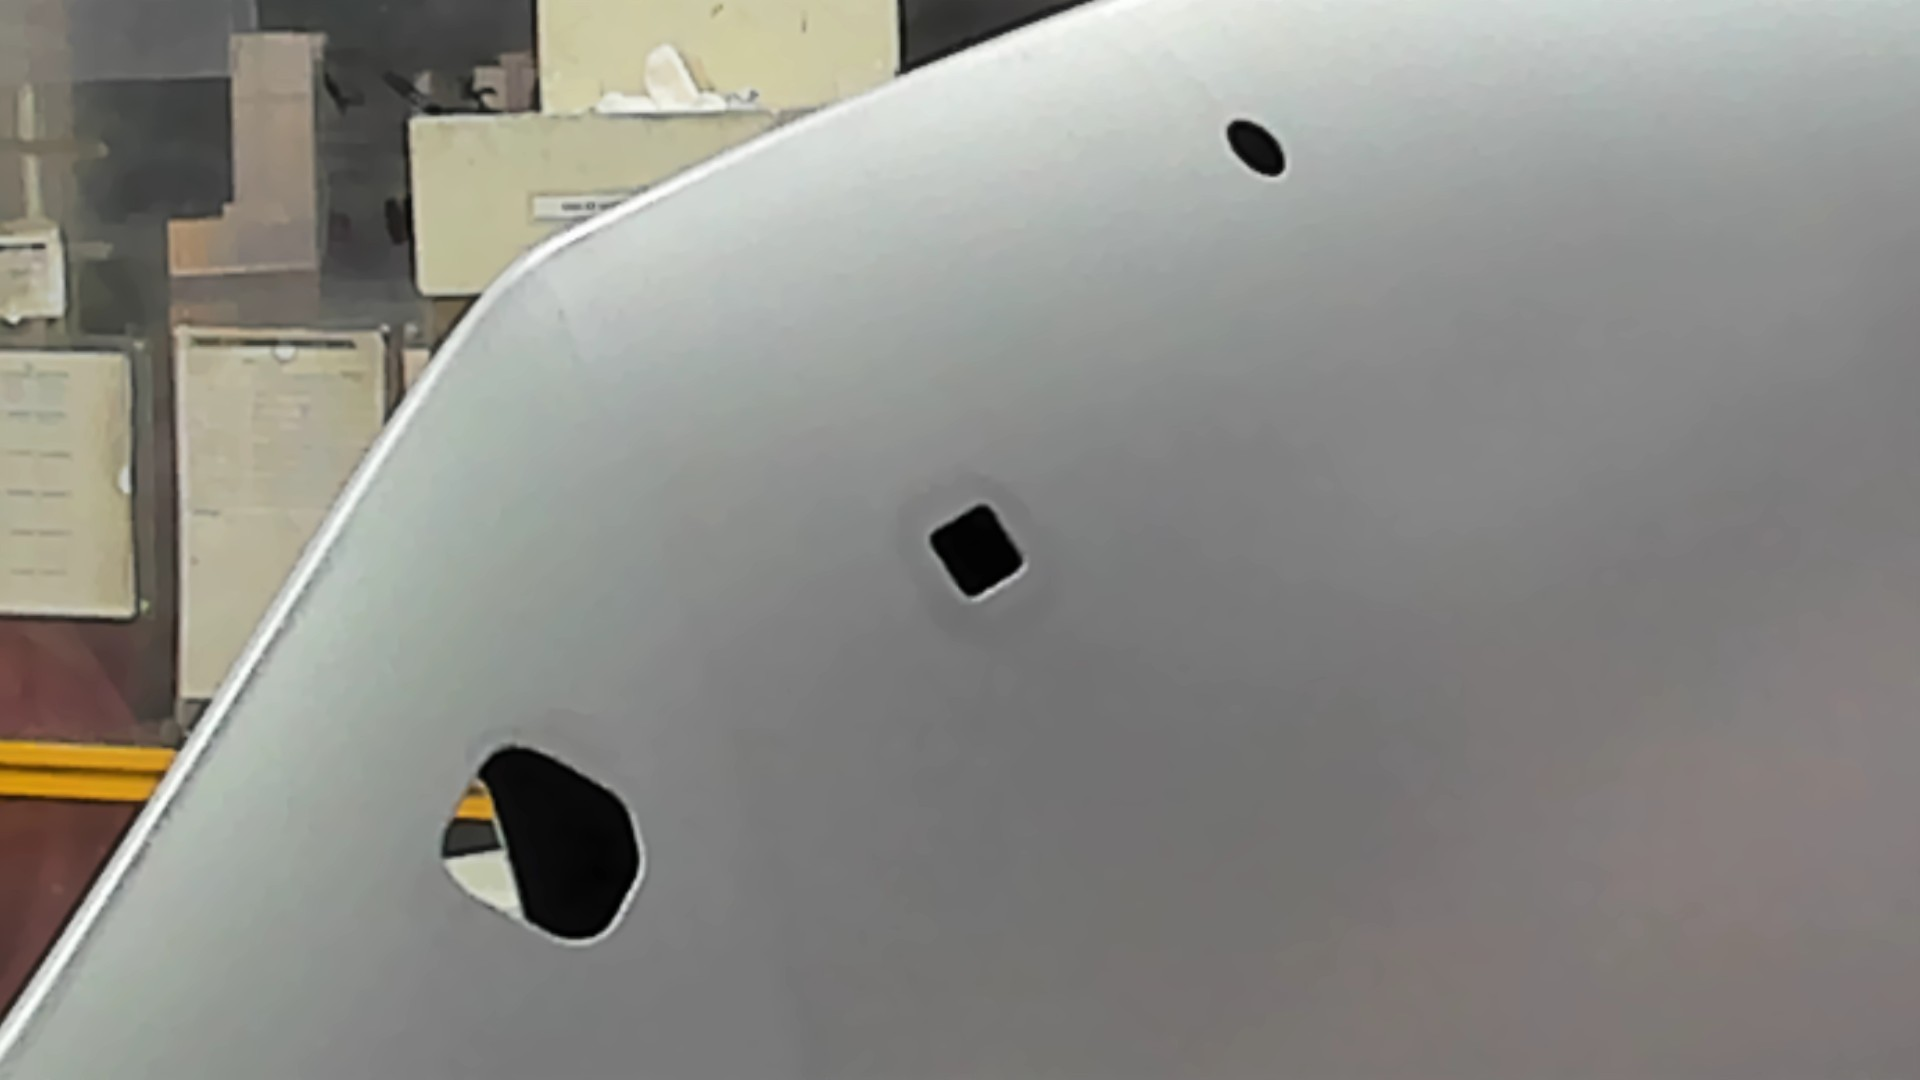chico: (1221, 113, 1292, 182)
grande: (433, 737, 655, 960)
mediano: (918, 492, 1033, 611)
